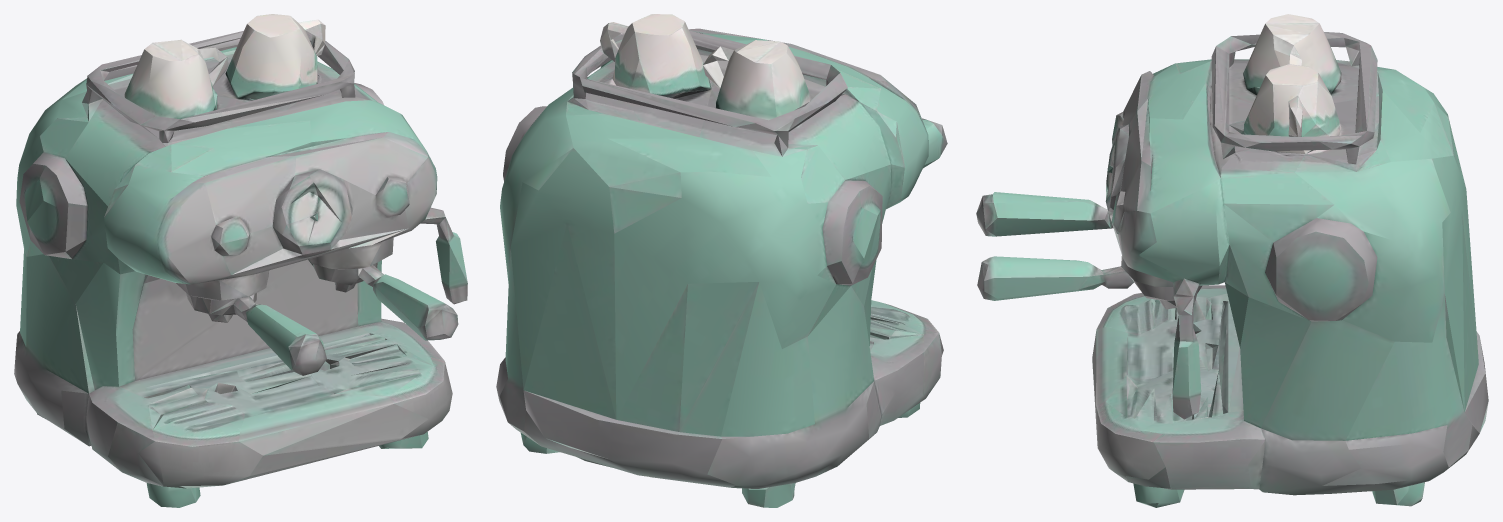
The model's file is cafe-espresso-machine.glb.
3 renders of one model, left to right at view 1: azimuth 30°, elevation 25°; view 2: azimuth 150°, elevation 25°; view 3: azimuth 270°, elevation 25°, orthographic.
Parts seen in each view (by area): view 1: cafe-espresso-machine-fit; view 2: cafe-espresso-machine-fit; view 3: cafe-espresso-machine-fit.
Part boxes in pixels (left/top/right/bottom): cafe-espresso-machine-fit: left=14, top=14, right=467, bottom=507; cafe-espresso-machine-fit: left=496, top=14, right=947, bottom=507; cafe-espresso-machine-fit: left=976, top=14, right=1488, bottom=507.
Size of the model in its own units: 0.6401 by 0.65 by 0.7638.
1 material, 1 textured.
